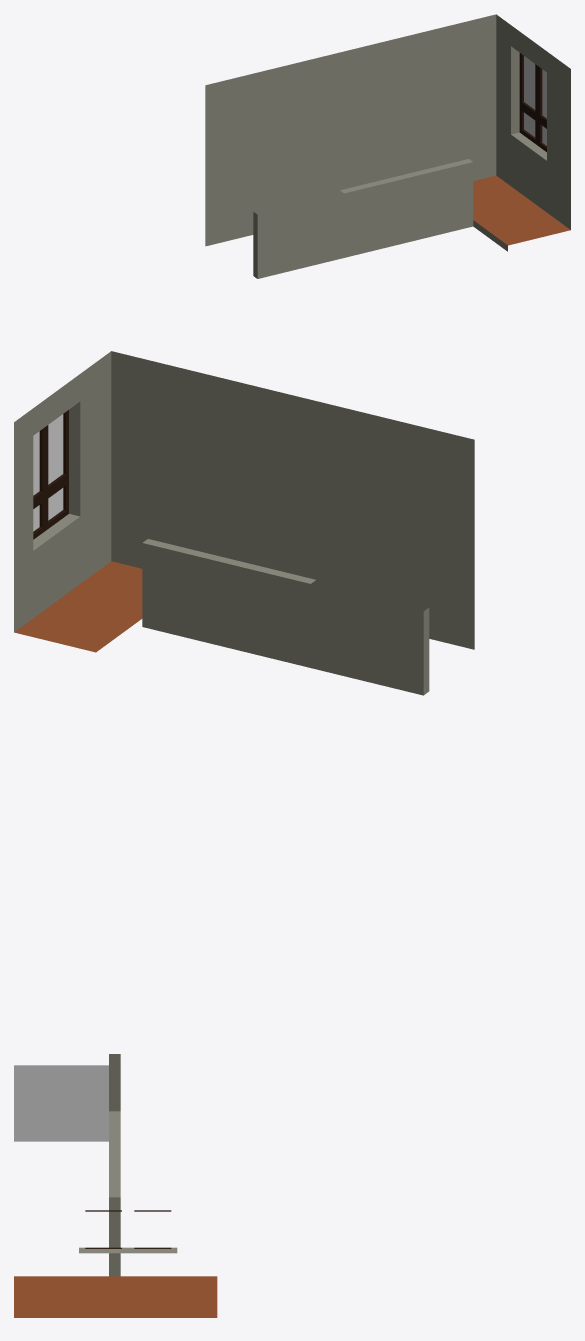
The model's file is corridor_top.glb.
The picture shows the model from 3 angles, top to bottom: view 1: azimuth 30°, elevation 25°; view 2: azimuth 150°, elevation 25°; view 3: azimuth 270°, elevation 25°; orthographic projection. The views are drawn at different scales.
Parts seen in each view (by area): view 1: top-corridor; view 2: top-corridor; view 3: top-corridor.
Boxes of the visible parts, bbox=[...] form: top-corridor: bbox=[205, 14, 570, 278]; top-corridor: bbox=[14, 351, 474, 695]; top-corridor: bbox=[14, 1054, 217, 1317].
Size of the model in its own units: 5.9 by 2.6 by 5.75.
